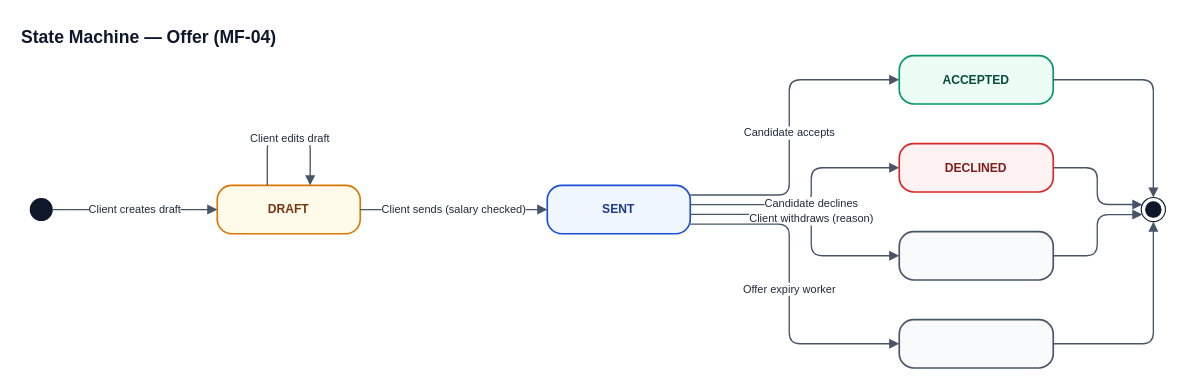
Image size: 1203x387. Some labels were removed from this diagram. Here are the shapes that lost their labels. From the top down, the centre of each, then its label:
At (976,255): "WITHDRAWN".
At (976,343): "EXPIRED".
